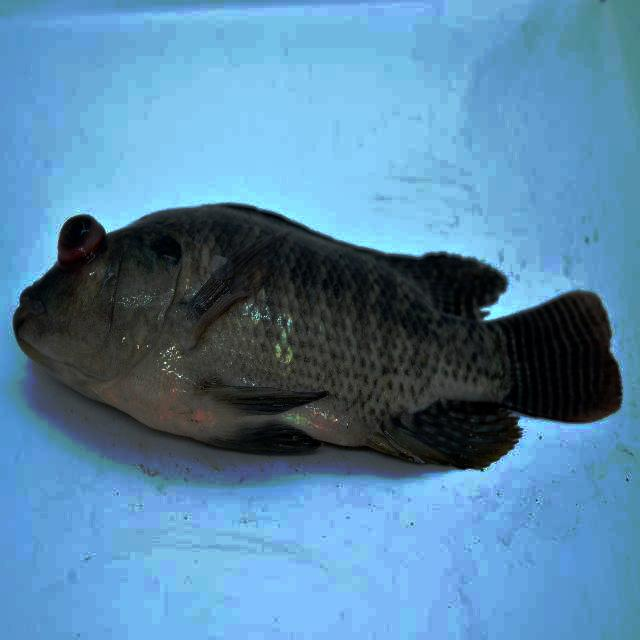Streptococcus: (13, 205, 621, 468), (13, 205, 620, 468), (14, 205, 620, 468)
